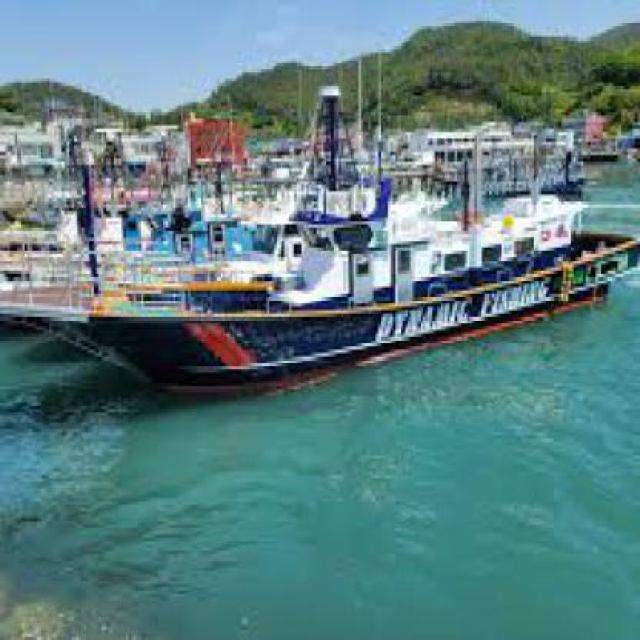fish-b: (1, 165, 639, 418)
